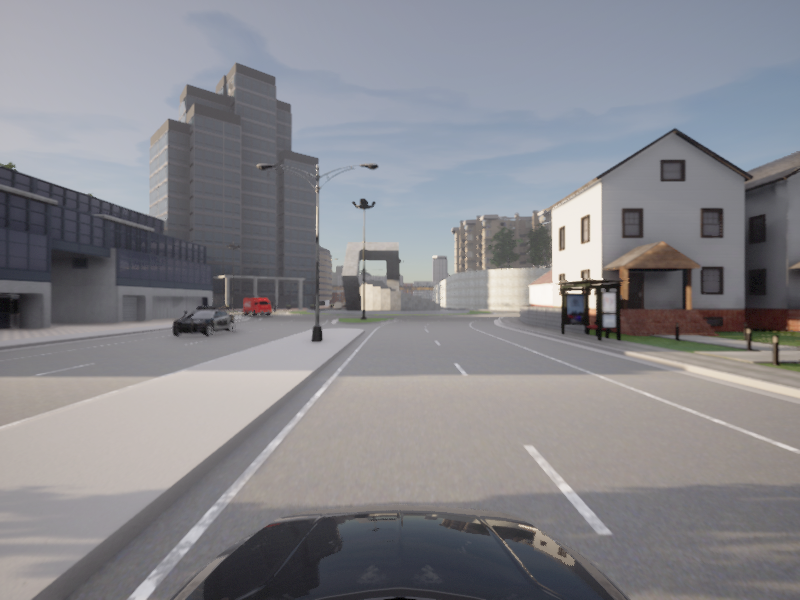vehicle: (164, 306, 238, 338)
